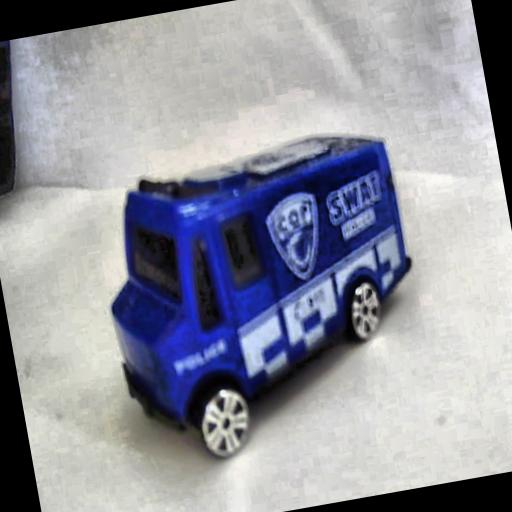police car: (76, 116, 447, 476)
